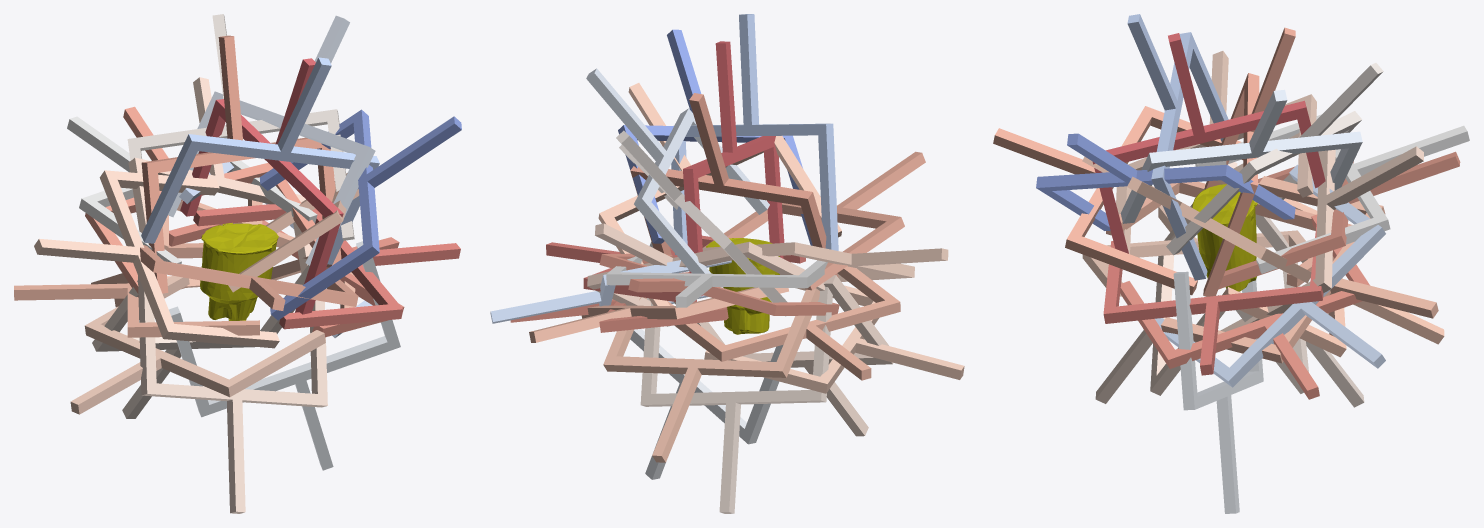
The model's file is kit_obj_25_da_2.glb.
The picture shows the model from 3 angles, left to right: view 1: azimuth 30°, elevation 25°; view 2: azimuth 150°, elevation 25°; view 3: azimuth 270°, elevation 25°; orthographic projection. The views are drawn at different scales.
Parts seen in each view (by area): view 1: kit_obj_25_da_2.obj_grasp_10, kit_obj_25_da_2.obj_grasp_1, kit_obj_25_da_2.obj_grasp_8, kit_obj_25_da_2.obj_grasp_0, kit_obj_25_da_2.obj_grasp_11, kit_obj_25_da_2.obj_grasp_20, kit_obj_25_da_2.obj, kit_obj_25_da_2.obj_grasp_21, kit_obj_25_da_2.obj_grasp_17, kit_obj_25_da_2.obj_grasp_4, kit_obj_25_da_2.obj_grasp_15, kit_obj_25_da_2.obj_grasp_3 (+10 smaller); view 2: kit_obj_25_da_2.obj_grasp_13, kit_obj_25_da_2.obj_grasp_1, kit_obj_25_da_2.obj_grasp_7, kit_obj_25_da_2.obj_grasp_15, kit_obj_25_da_2.obj_grasp_3, kit_obj_25_da_2.obj_grasp_21, kit_obj_25_da_2.obj_grasp_17, kit_obj_25_da_2.obj_grasp_16, kit_obj_25_da_2.obj_grasp_11, kit_obj_25_da_2.obj_grasp_10, kit_obj_25_da_2.obj_grasp_5, kit_obj_25_da_2.obj_grasp_9 (+11 smaller); view 3: kit_obj_25_da_2.obj_grasp_0, kit_obj_25_da_2.obj_grasp_1, kit_obj_25_da_2.obj_grasp_3, kit_obj_25_da_2.obj_grasp_16, kit_obj_25_da_2.obj_grasp_21, kit_obj_25_da_2.obj_grasp_2, kit_obj_25_da_2.obj_grasp_20, kit_obj_25_da_2.obj_grasp_4, kit_obj_25_da_2.obj_grasp_19, kit_obj_25_da_2.obj_grasp_14, kit_obj_25_da_2.obj_grasp_9, kit_obj_25_da_2.obj_grasp_6 (+11 smaller).
Part boxes in pixels (x1,y1,x2,y2): kit_obj_25_da_2.obj_grasp_10: [34, 170, 279, 348]; kit_obj_25_da_2.obj_grasp_1: [141, 57, 379, 264]; kit_obj_25_da_2.obj_grasp_8: [138, 276, 327, 513]; kit_obj_25_da_2.obj_grasp_0: [259, 109, 461, 320]; kit_obj_25_da_2.obj_grasp_11: [70, 275, 325, 414]; kit_obj_25_da_2.obj_grasp_20: [193, 204, 460, 329]; kit_obj_25_da_2.obj: [200, 222, 278, 320]; kit_obj_25_da_2.obj_grasp_21: [180, 58, 343, 314]; kit_obj_25_da_2.obj_grasp_17: [141, 35, 341, 293]; kit_obj_25_da_2.obj_grasp_4: [169, 241, 400, 470]; kit_obj_25_da_2.obj_grasp_15: [14, 243, 259, 337]; kit_obj_25_da_2.obj_grasp_3: [168, 15, 375, 265]; kit_obj_25_da_2.obj_grasp_13: [603, 288, 819, 462]; kit_obj_25_da_2.obj_grasp_1: [671, 14, 838, 254]; kit_obj_25_da_2.obj_grasp_7: [640, 286, 832, 513]; kit_obj_25_da_2.obj_grasp_15: [667, 266, 900, 380]; kit_obj_25_da_2.obj_grasp_3: [586, 68, 769, 287]; kit_obj_25_da_2.obj_grasp_21: [683, 41, 784, 296]; kit_obj_25_da_2.obj_grasp_17: [630, 93, 838, 277]; kit_obj_25_da_2.obj_grasp_16: [703, 151, 925, 290]; kit_obj_25_da_2.obj_grasp_11: [704, 274, 964, 393]; kit_obj_25_da_2.obj_grasp_10: [702, 242, 948, 281]; kit_obj_25_da_2.obj_grasp_5: [606, 256, 827, 307]; kit_obj_25_da_2.obj_grasp_9: [587, 223, 824, 326]; kit_obj_25_da_2.obj_grasp_0: [1036, 133, 1295, 230]; kit_obj_25_da_2.obj_grasp_1: [1127, 14, 1228, 280]; kit_obj_25_da_2.obj_grasp_3: [1120, 89, 1362, 223]; kit_obj_25_da_2.obj_grasp_16: [993, 106, 1243, 295]; kit_obj_25_da_2.obj_grasp_21: [1092, 33, 1325, 253]; kit_obj_25_da_2.obj_grasp_2: [1155, 164, 1385, 387]; kit_obj_25_da_2.obj_grasp_20: [1103, 221, 1323, 375]; kit_obj_25_da_2.obj_grasp_4: [1173, 271, 1263, 513]; kit_obj_25_da_2.obj_grasp_19: [1120, 214, 1369, 399]; kit_obj_25_da_2.obj_grasp_14: [1161, 176, 1438, 363]; kit_obj_25_da_2.obj_grasp_9: [1220, 132, 1423, 331]; kit_obj_25_da_2.obj_grasp_6: [1166, 63, 1383, 255].
Bounding box in the file's own units: 0.2536 × 0.2659 × 0.2421.
